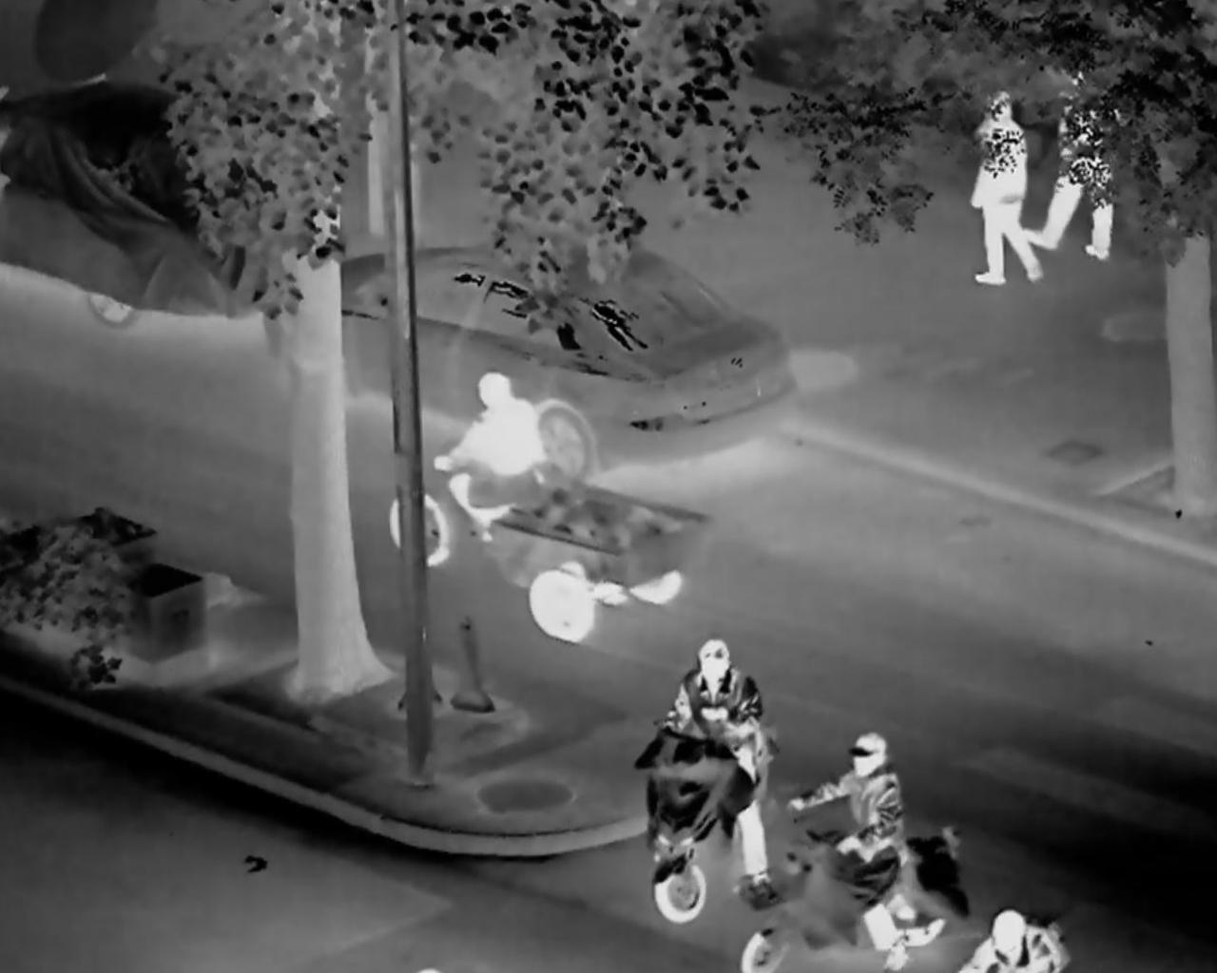person: (636, 631, 797, 887), (766, 719, 916, 942), (437, 371, 570, 582), (942, 73, 1047, 290), (1033, 53, 1131, 280)
